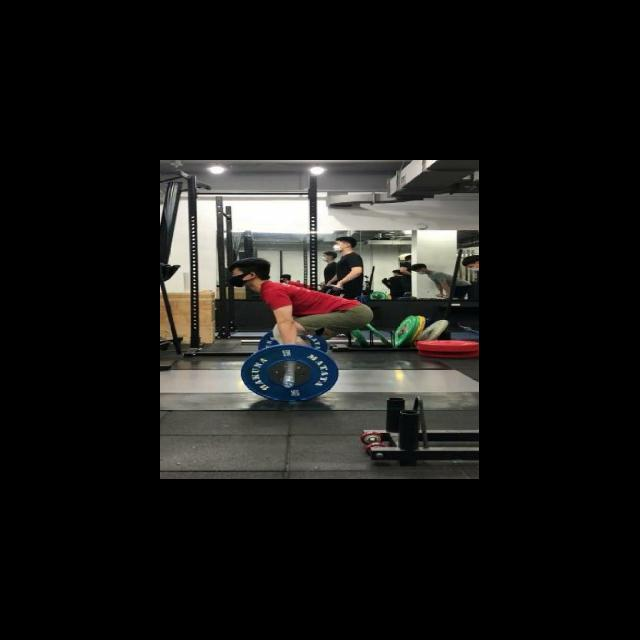barbell: (239, 341, 342, 404)
